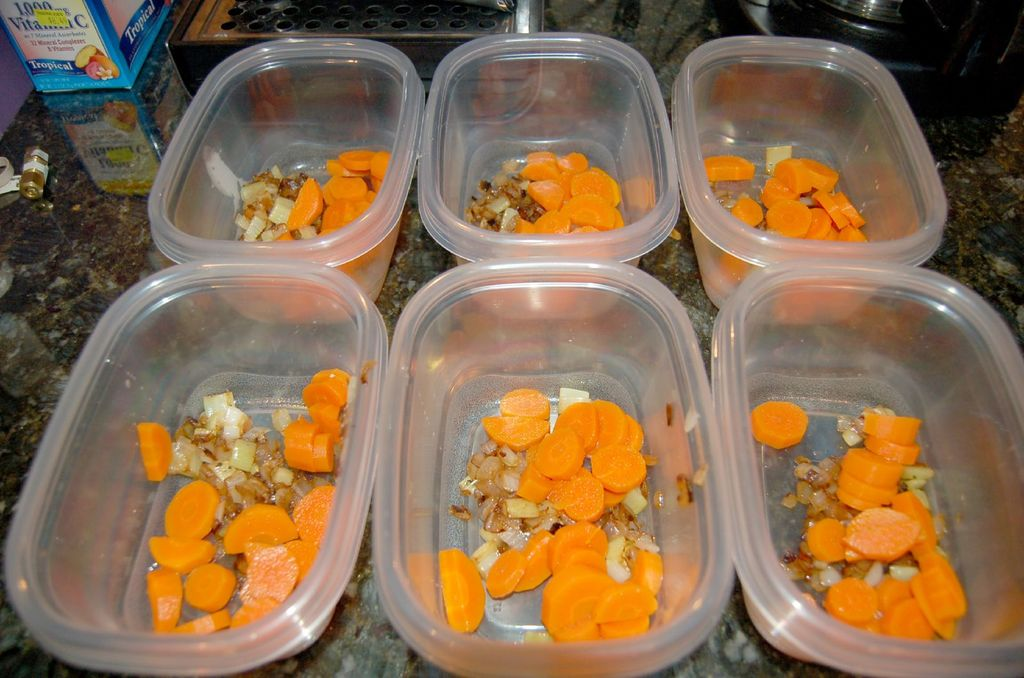Carrot: (152, 481, 337, 632), (439, 523, 664, 635), (808, 493, 963, 641), (482, 388, 643, 523), (701, 155, 868, 242), (274, 147, 388, 241), (513, 146, 623, 232), (845, 412, 916, 509), (290, 368, 341, 474), (751, 400, 809, 449), (137, 423, 170, 482)
